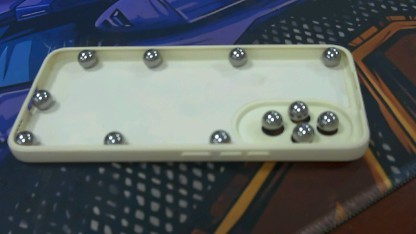ironball: (26, 86, 53, 110), (316, 108, 339, 136), (321, 41, 342, 71), (10, 127, 38, 149), (73, 47, 101, 69), (286, 94, 308, 122), (139, 46, 165, 68), (290, 122, 316, 142), (102, 128, 125, 150), (207, 125, 230, 147), (225, 45, 249, 66), (258, 106, 277, 128)
